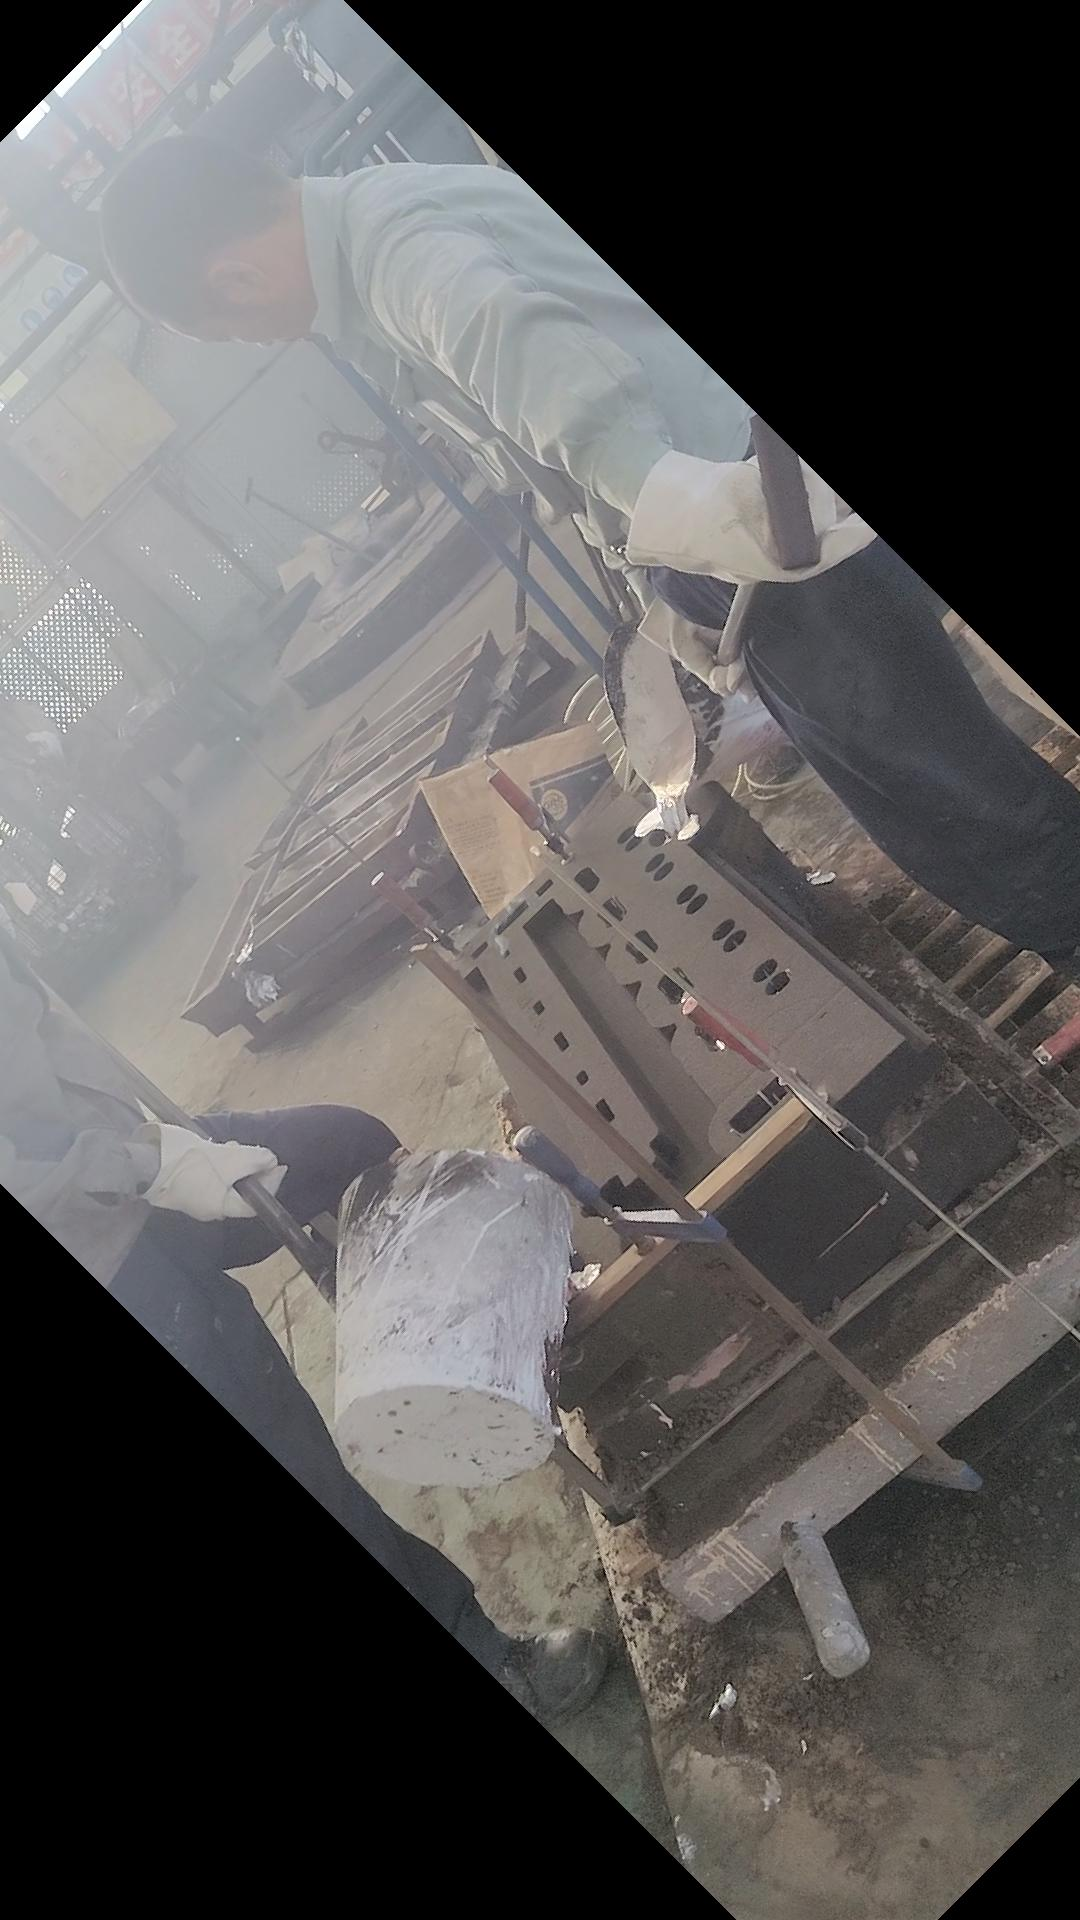pouring hole: (534, 1257, 585, 1305), (647, 802, 695, 848)
